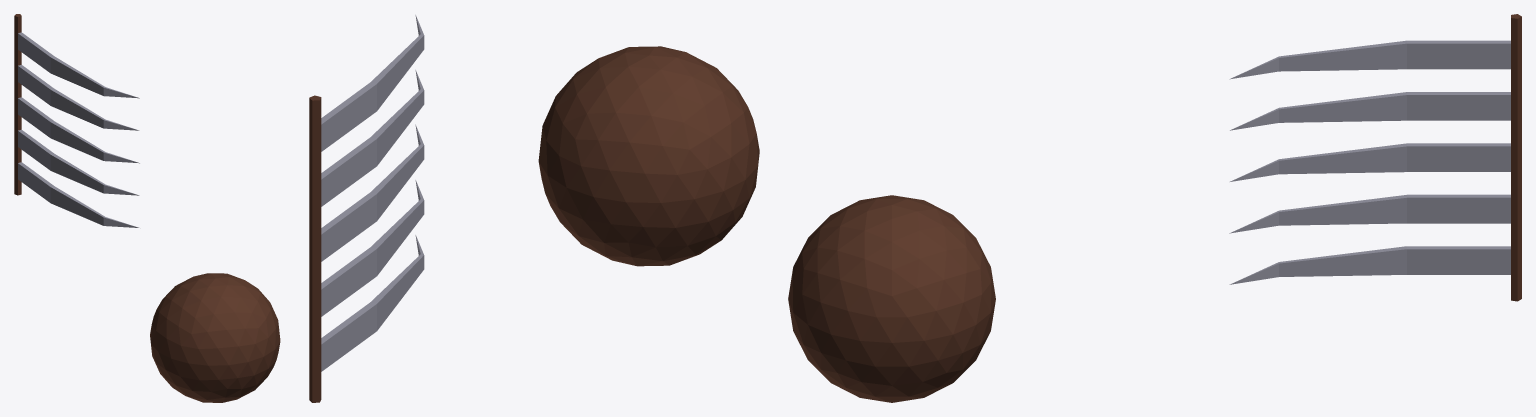
Rendered from TrapPack1.fbx.
3 renders of one model, left to right at view 1: azimuth 30°, elevation 25°; view 2: azimuth 150°, elevation 25°; view 3: azimuth 270°, elevation 25°, orthographic. The views are drawn at different scales.
Parts seen in each view (by area): view 1: RollingStone_1, SpringTrap_1; view 2: RollingStone_1, SpringTrap_1; view 3: SpringTrap_1, RollingStone_1.
Boxes of the visible parts, x1,y1,x2,y2 form: RollingStone_1: [150, 273, 280, 402]; SpringTrap_1: [14, 14, 139, 227]; RollingStone_1: [538, 46, 759, 266]; SpringTrap_1: [309, 15, 424, 402]; SpringTrap_1: [1229, 14, 1521, 301]; RollingStone_1: [788, 195, 995, 402].
Bounding box in the file's own units: 2 × 4 × 7.06.
